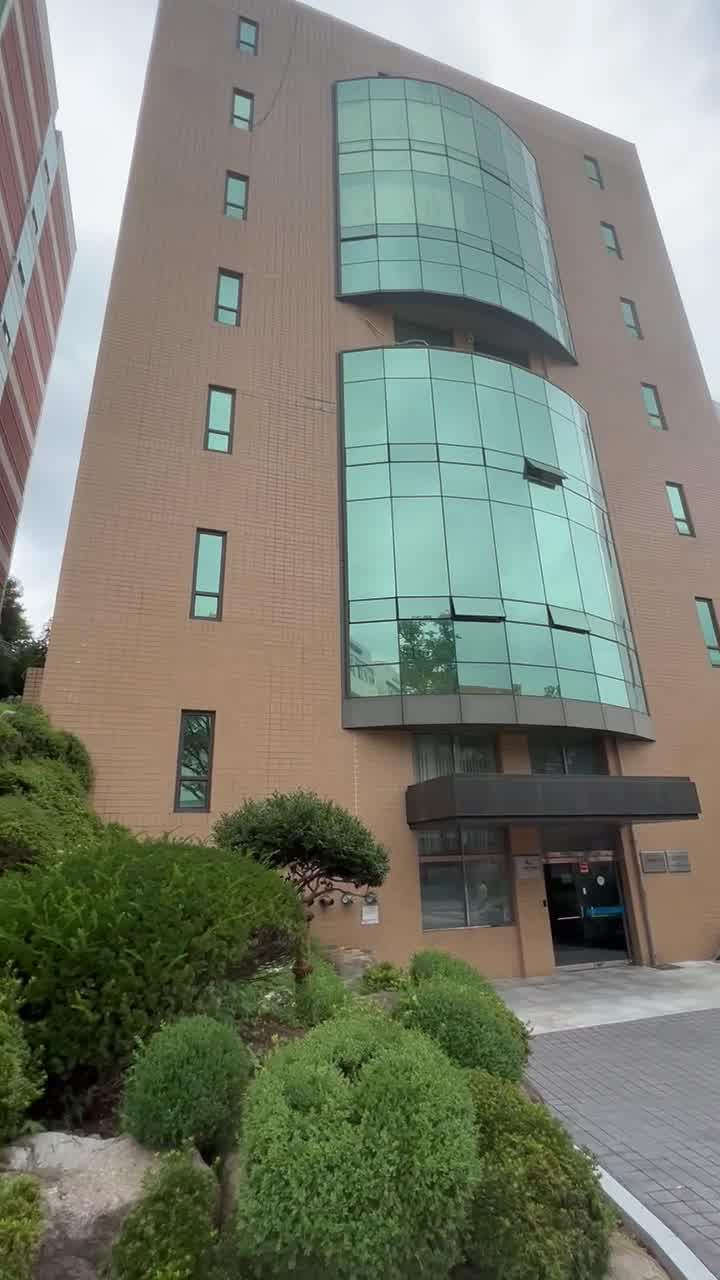building: (104, 10, 674, 802)
